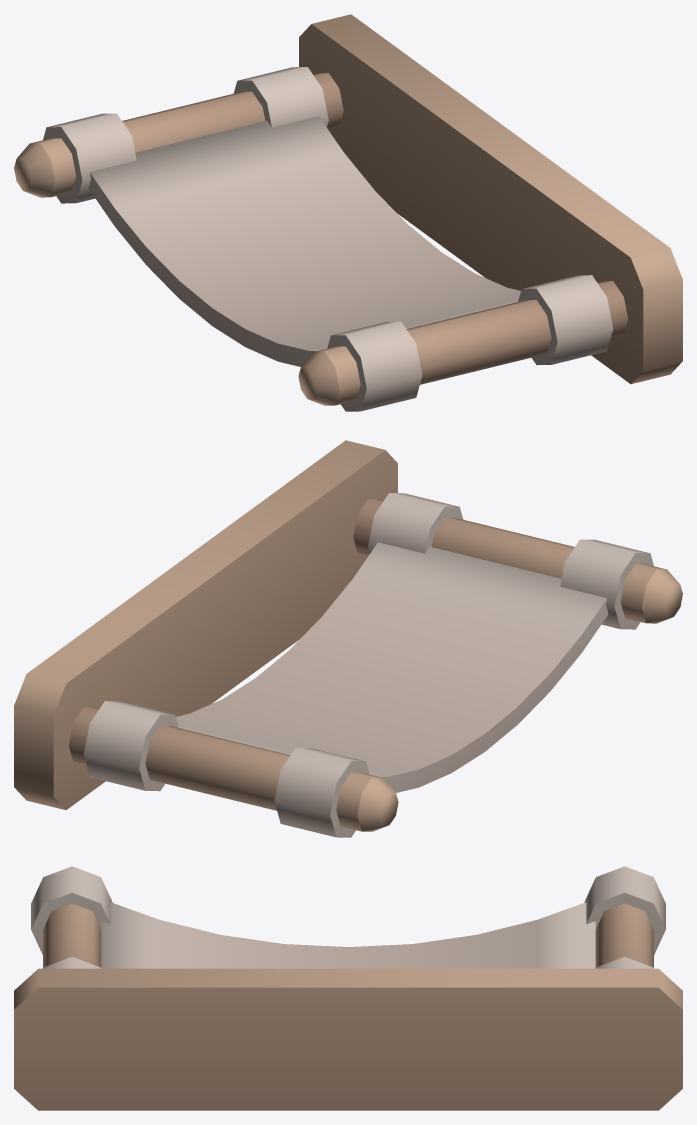
File: cat-shelf-bed-wide (%wall).glb
3 renders of one model, top to bottom at view 1: azimuth 30°, elevation 25°; view 2: azimuth 150°, elevation 25°; view 3: azimuth 270°, elevation 25°, orthographic. The views are drawn at different scales.
Parts seen in each view (by area): view 1: cat-shelf-bed-wide (%wall); view 2: cat-shelf-bed-wide (%wall); view 3: cat-shelf-bed-wide (%wall).
Boxes of the visible parts, left/top/right/bottom form: cat-shelf-bed-wide (%wall): left=14, top=14, right=682, bottom=411; cat-shelf-bed-wide (%wall): left=14, top=440, right=682, bottom=837; cat-shelf-bed-wide (%wall): left=14, top=866, right=682, bottom=1110.
Bounding box in the file's own units: 0.5 × 0.175 × 0.8625.
